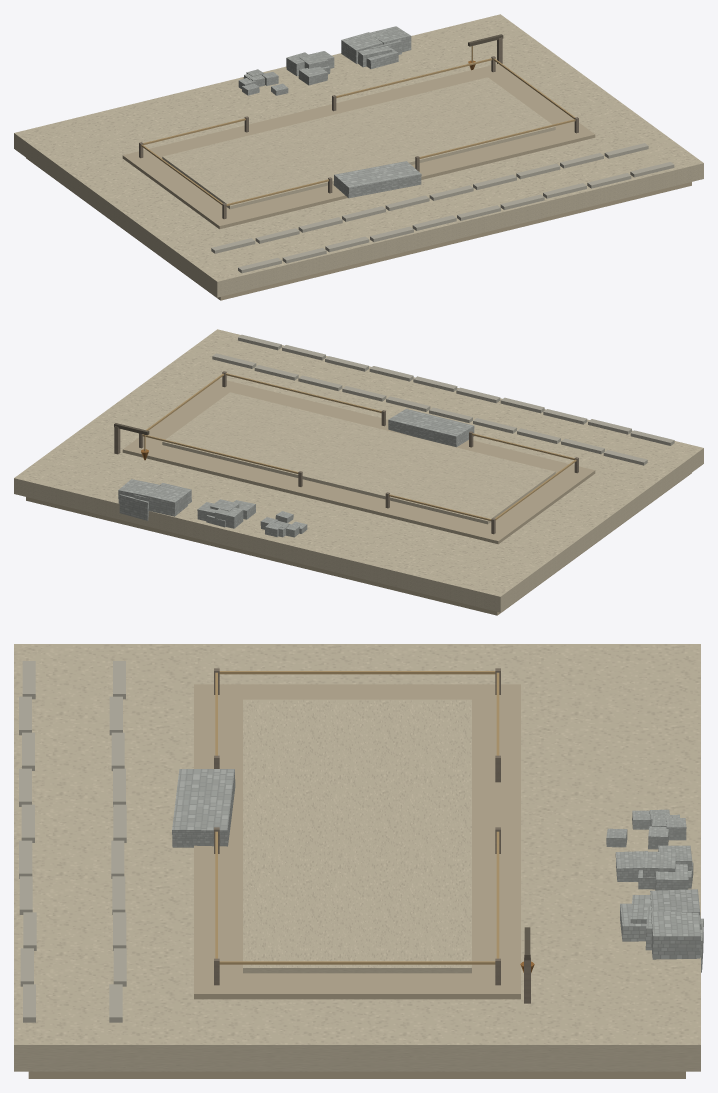
File: lin-4-site.glb
The picture shows the model from 3 angles, top to bottom: view 1: azimuth 30°, elevation 25°; view 2: azimuth 150°, elevation 25°; view 3: azimuth 270°, elevation 25°; orthographic projection. The views are drawn at different scales.
Bounding box in the file's own units: 29 × 3.02 × 21.1.
10 materials, 7 textured.
